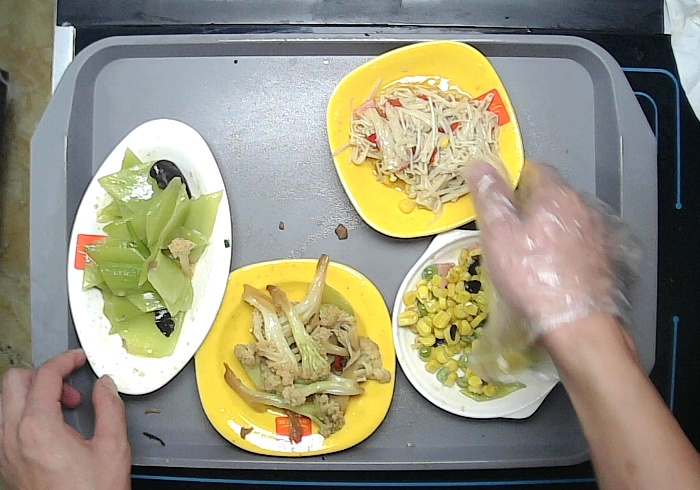SHKJ-Bao_Yu_Pan: (392, 229, 579, 419)
SHKJ-Huang_Se_Cai_Die: (326, 41, 525, 236)
SHKJ-Huang_Se_Si_Fang_Cai_Die: (194, 259, 395, 458)
SHKJ-Yu_Pan: (67, 119, 233, 395)
